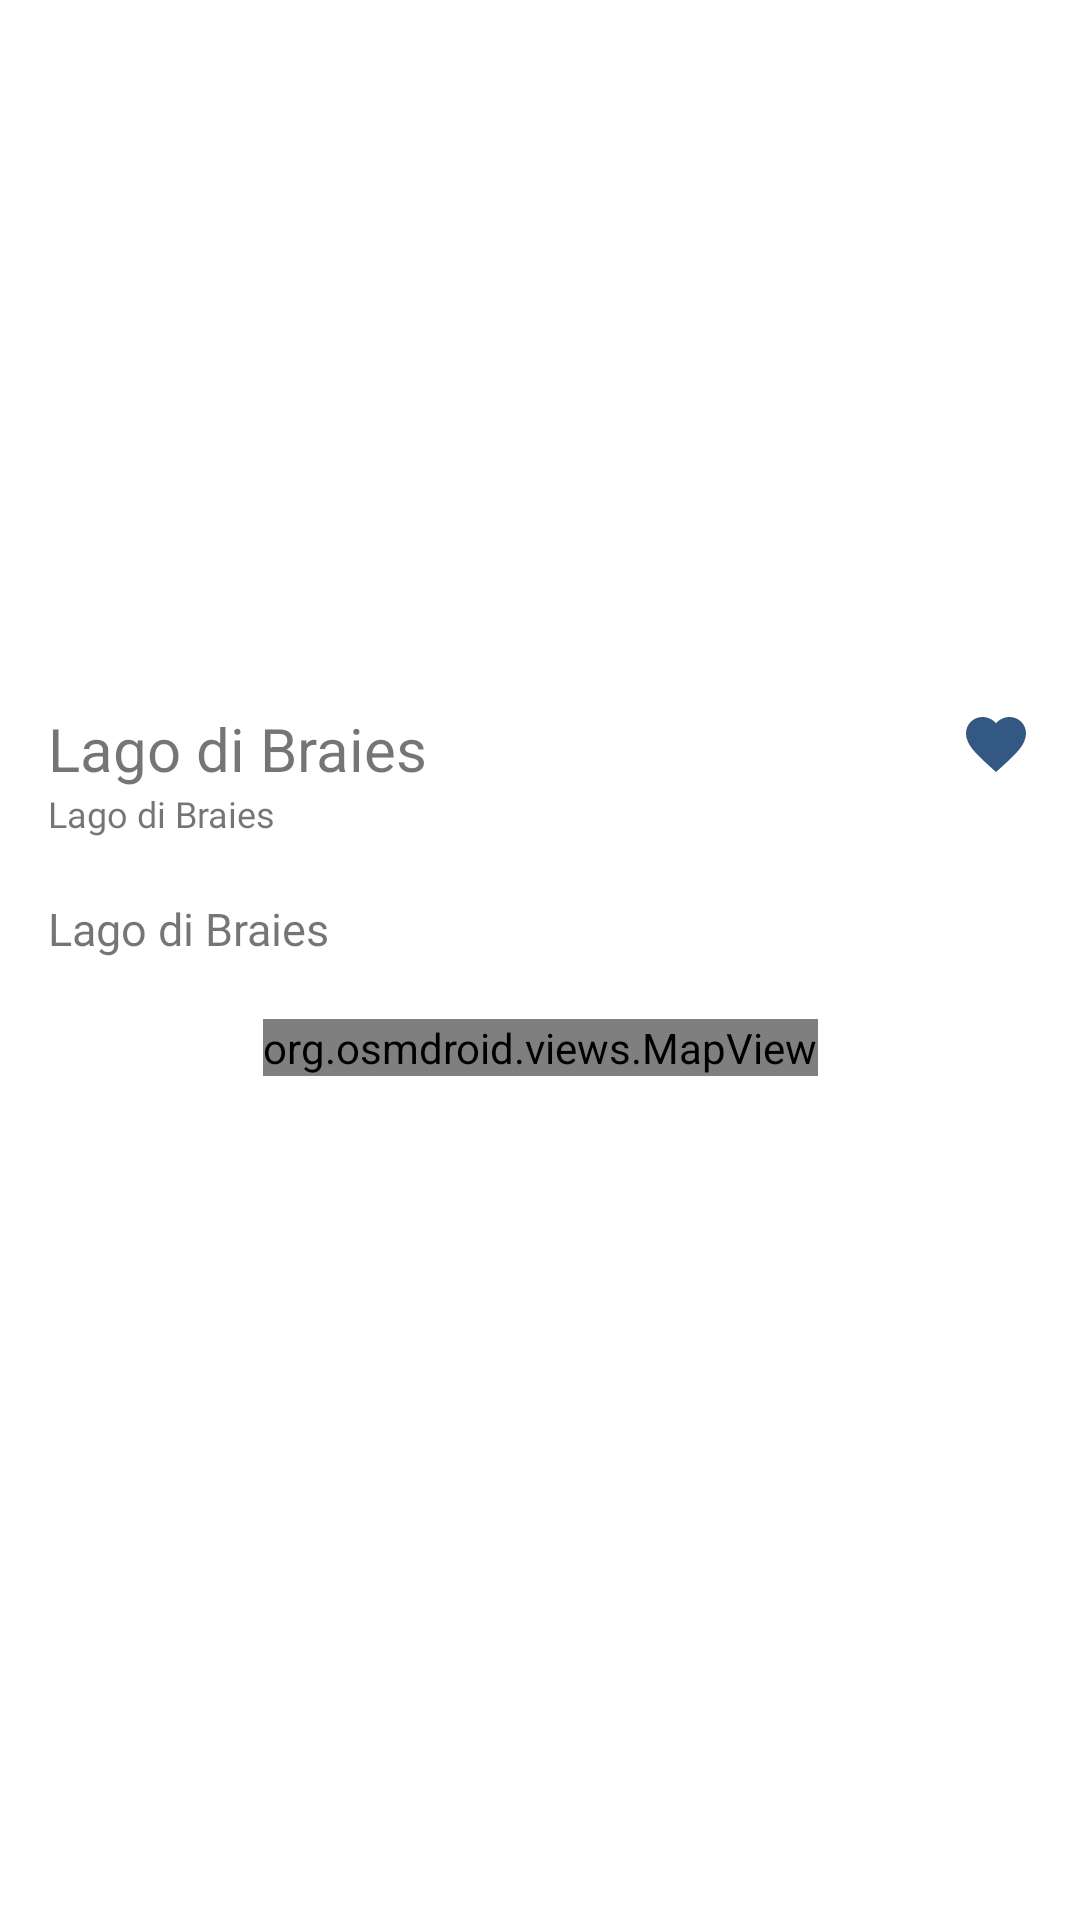

Icons on this 1080*1920 Android screen, each with the point to tap as (x=x, y=y):
favorite: (x=996, y=744)
